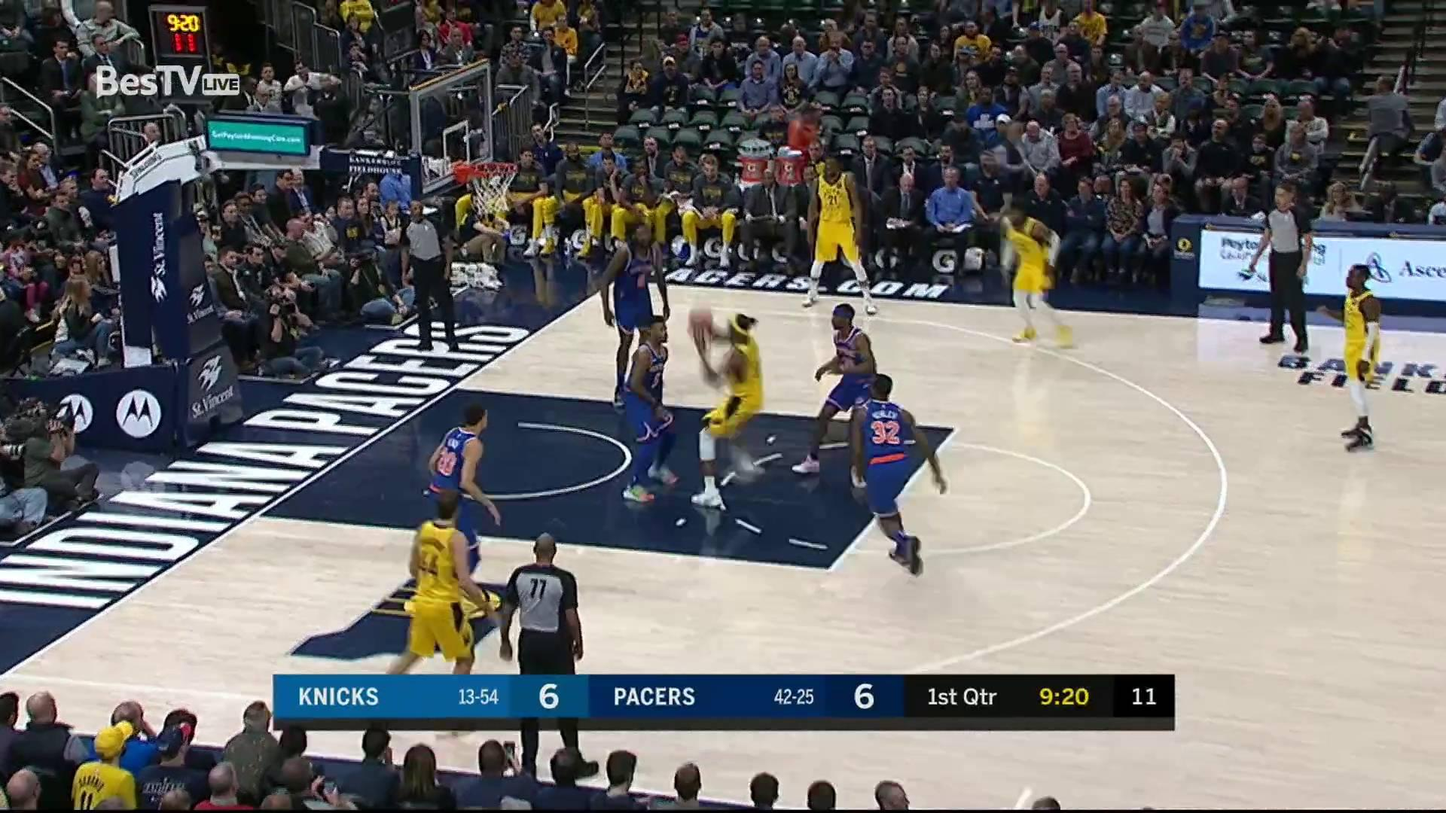basketball: (691, 304, 715, 330)
